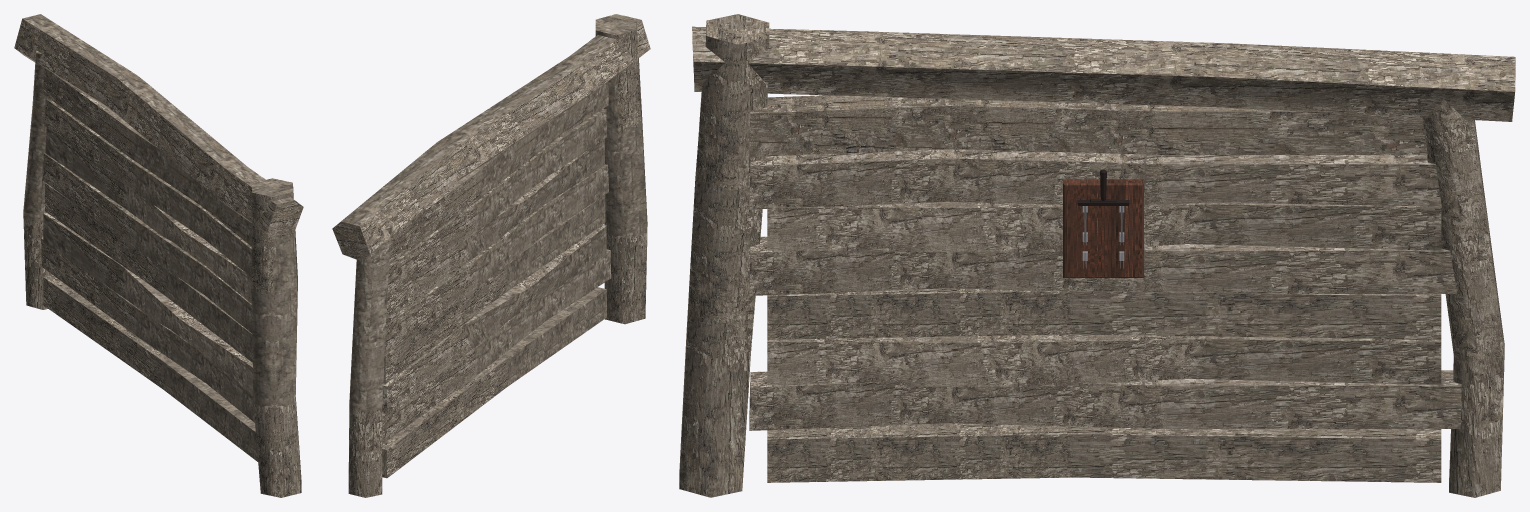
File: switch.glb
3 views of the same model, side by side, from view 1: azimuth 30°, elevation 25°; view 2: azimuth 150°, elevation 25°; view 3: azimuth 270°, elevation 25° (orthographic). The views are drawn at different scales.
Visible parts, largest first — view 1: Tb_01.001, Wood_B_02; view 2: Tb_01.001, Wood_B_02; view 3: Tb_01.001, Wood_B_02, switch_base.
Boxes of the visible parts, x1,y1,x2,y2 form: Tb_01.001: [35, 62, 258, 461]; Wood_B_02: [14, 14, 303, 497]; Tb_01.001: [382, 81, 611, 478]; Wood_B_02: [332, 14, 650, 497]; Tb_01.001: [749, 95, 1461, 482]; Wood_B_02: [679, 14, 1515, 497]; switch_base: [1063, 179, 1143, 277].
Size of the model in its own units: 0.3805 by 1.67 by 2.78.
4 materials, 4 textured.
